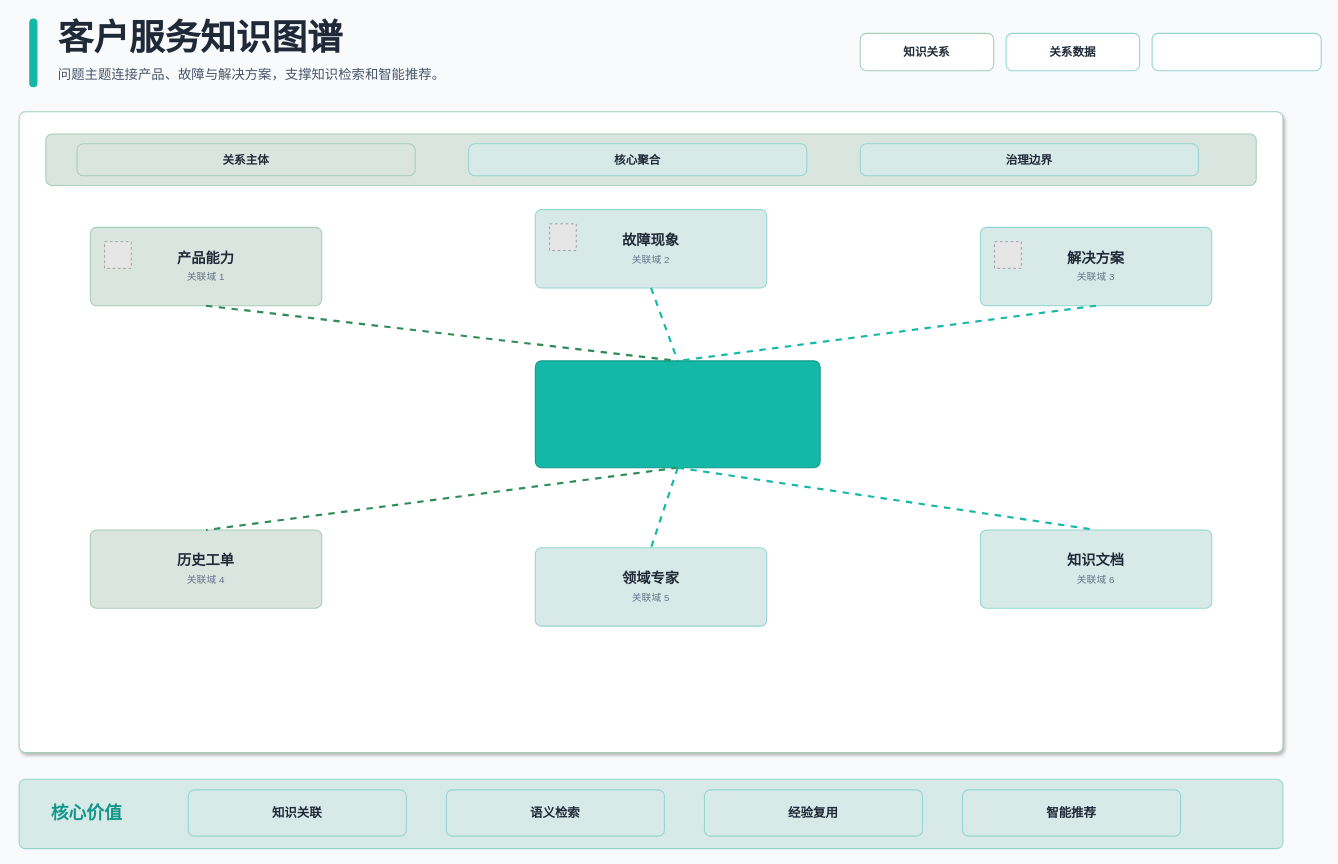
Some shapes in this 1338 by 864 pixel diagram are drawn without their labels. Grey dashed boxes stand in for pictures. The shapes that lost their labels are listed below. From the top down, each one's centre as x and y in pixels, then its label:
the point at 1236,51: Mint green
the point at 677,414: 客户问题 核心主题
